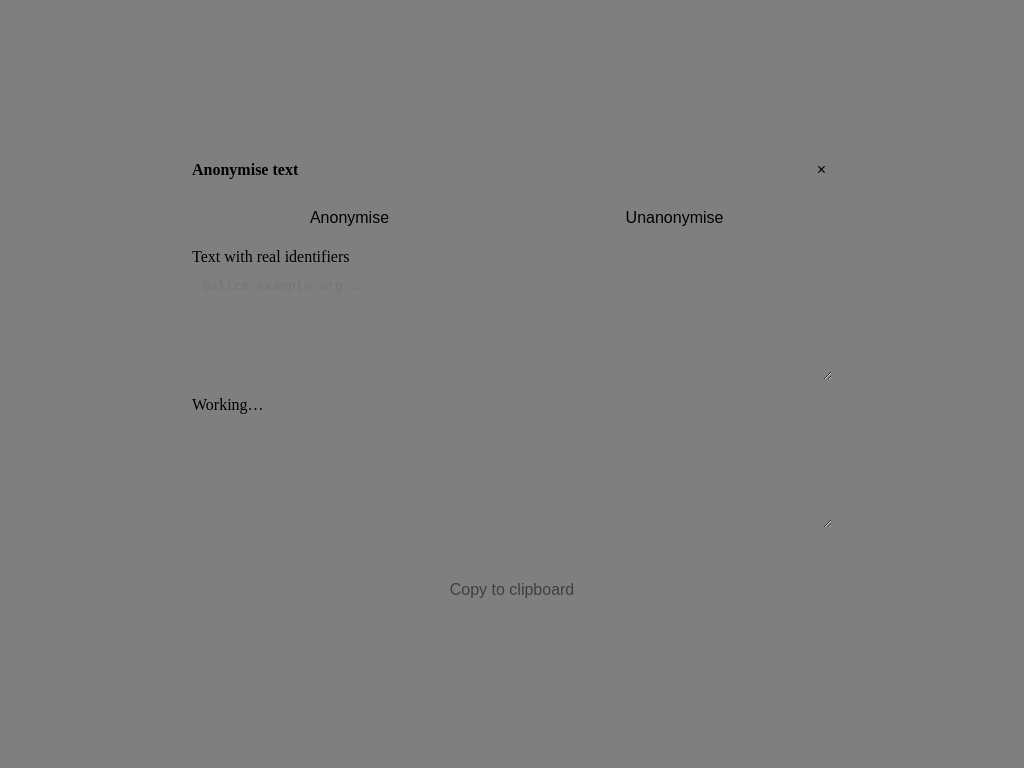
Test: AnonTextDialog › reports a failure when the log mapping cannot be built
The width and height of the screenshot is (1024, 768).
Click the button "Unanonymise": coordinates (674, 218) top-left (517, 200), bottom-right (832, 236)
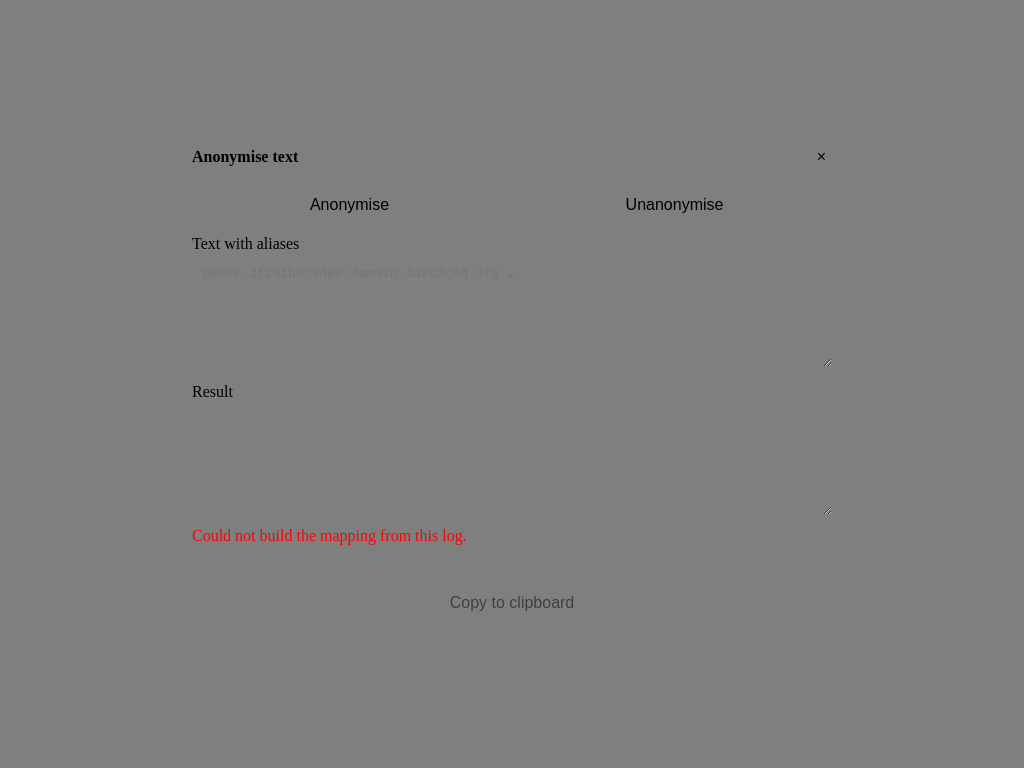
Now the text "Could not build the mapping from this log." is shown, box top-left (192, 527), bottom-right (467, 544)
